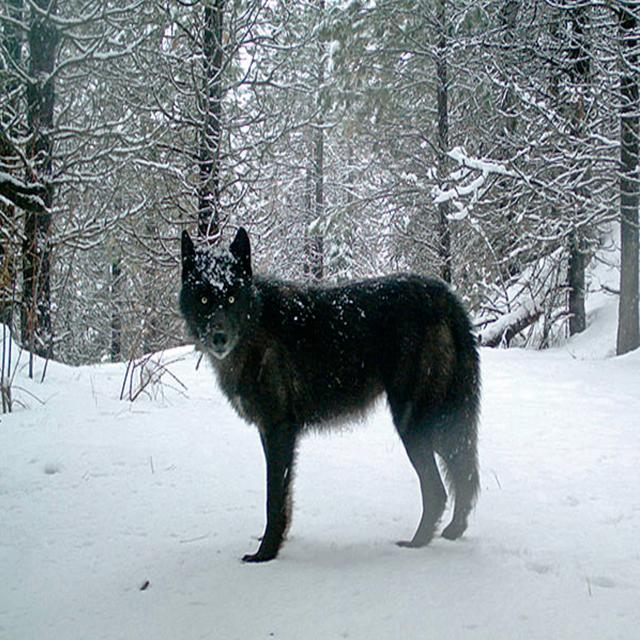wolf: (178, 227, 481, 562)
